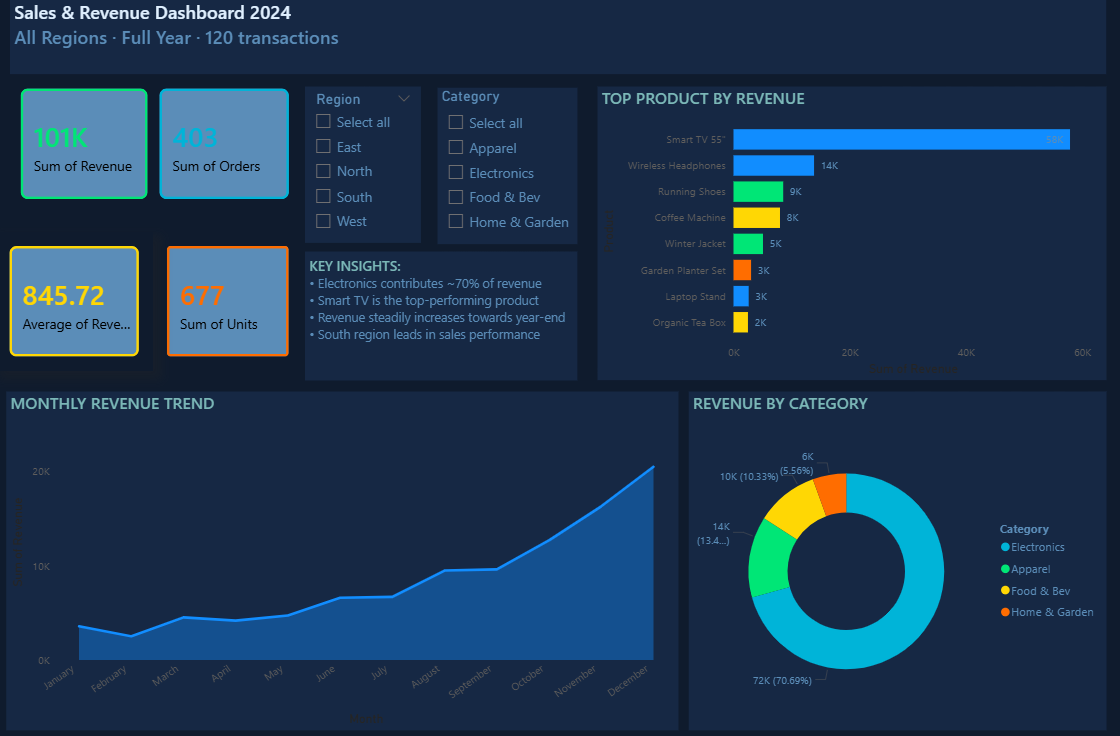

Layout of this report page (visuals, bound fields, positions):
{"tool":"powerbi","page":{"name":"Page 1","canvas":[1313,870],"ordinal":0},"visuals":[{"type":"cardVisual","fields":{"Data":["Sum(sales_data_1.Revenue)"]},"box":[13.1,93.3,182.2,163.3],"z":0},{"type":"cardVisual","fields":{"Data":["Sum(sales_data_1.Units)"]},"box":[183.7,277,176.4,163.3],"z":1000},{"type":"cardVisual","fields":{"Data":["Avg(sales_data_1.Revenue)"]},"box":[0,277,185.1,163.3],"z":2000},{"type":"cardVisual","fields":{"Data":["Sum(sales_data_1.Orders)"]},"box":[174.9,93.3,185.1,163.3],"z":3000},{"type":"lineChart","title":"MONTHLY REVENUE TREND","fields":{"Y":["Sum(sales_data_1.Revenue)"],"Category":["sales_data_1.Date.Variation.Date Hierarchy.Month"]},"box":[13.1,463.6,784.3,395.1],"z":4000},{"type":"donutChart","title":"REVENUE BY CATEGORY","fields":{"Category":["sales_data_1.Category"],"Y":["Sum(sales_data_1.Revenue)"]},"box":[809.1,463.6,486.9,395.1],"z":5000},{"type":"clusteredBarChart","title":"TOP PRODUCT BY REVENUE","fields":{"Y":["Sum(sales_data_1.Revenue)"],"Category":["sales_data_1.Product"]},"box":[702.7,107.9,593.3,342.6],"z":6000},{"type":"slicer","fields":{"Values":["sales_data_1.Region"]},"box":[361.5,107.9,135.6,182.2],"z":7000},{"type":"slicer","title":"Category","fields":{"Values":["sales_data_1.Category"]},"box":[516.1,109.3,163.3,182.2],"z":8000},{"type":"textbox","box":[17.5,1.5,1278.5,91.8],"z":9000},{"type":"textbox","box":[361.5,300.3,317.8,150.2],"z":10000}]}

Visuals, with their boxes in screenshot pixels (x1, y1, x2, y2), scaled from the page's 1313x870 canvas onto the 1120x736 screenshot:
cardVisual - Sum(sales_data_1.Revenue): x1=11 y1=79 x2=167 y2=217
cardVisual - Sum(sales_data_1.Units): x1=157 y1=234 x2=307 y2=372
cardVisual - Avg(sales_data_1.Revenue): x1=0 y1=234 x2=158 y2=372
cardVisual - Sum(sales_data_1.Orders): x1=149 y1=79 x2=307 y2=217
"MONTHLY REVENUE TREND" lineChart: x1=11 y1=392 x2=680 y2=726
"REVENUE BY CATEGORY" donutChart: x1=690 y1=392 x2=1105 y2=726
"TOP PRODUCT BY REVENUE" clusteredBarChart: x1=599 y1=91 x2=1105 y2=381
slicer - sales_data_1.Region: x1=308 y1=91 x2=424 y2=245
"Category" slicer: x1=440 y1=92 x2=580 y2=247
textbox: x1=15 y1=1 x2=1105 y2=79
textbox: x1=308 y1=254 x2=579 y2=381
